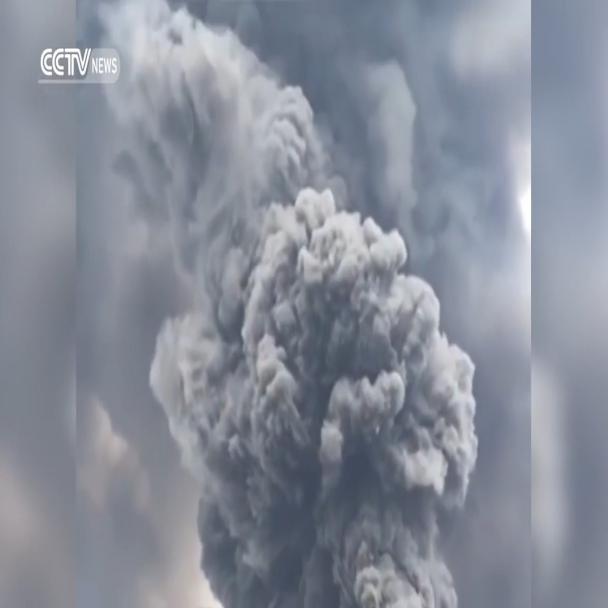smoke: (107, 11, 482, 607)
